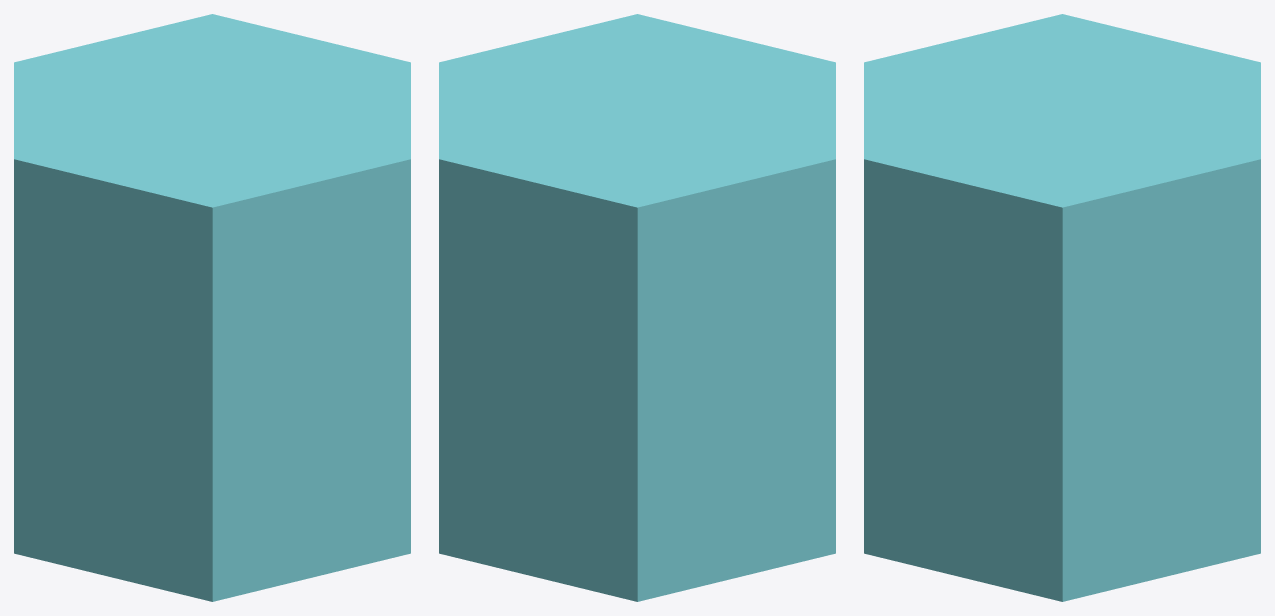
3 views of the same model, side by side, from view 1: azimuth 30°, elevation 25°; view 2: azimuth 150°, elevation 25°; view 3: azimuth 270°, elevation 25° (orthographic).
Parts seen in each view (by area): view 1: polySurface726; view 2: polySurface726; view 3: polySurface726.
Part boxes in pixels (<box>): polySurface726: <box>14,14,410,601</box>; polySurface726: <box>439,14,835,601</box>; polySurface726: <box>864,14,1260,601</box>.
Size of the model in its own units: 2 by 1.9 by 1.73.
